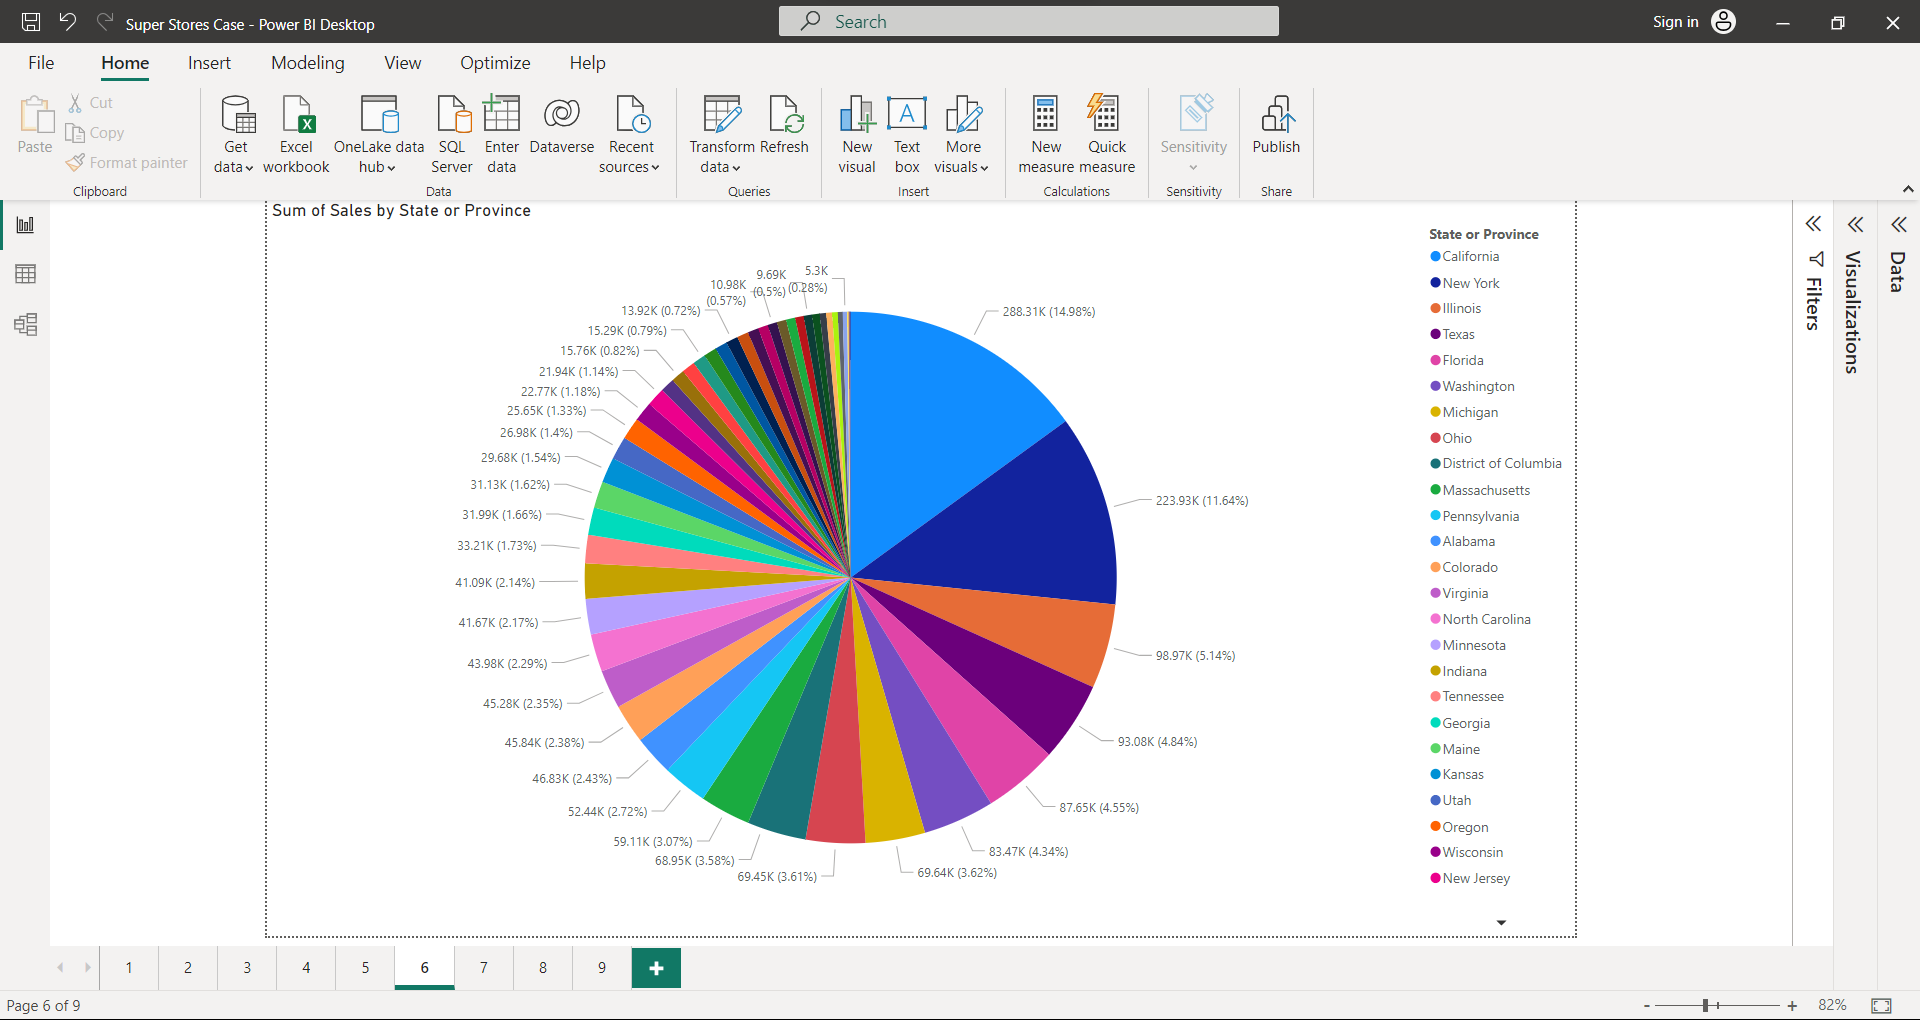

The page's visual inventory and layout, read from the dashboard file:
{"tool":"powerbi","page":{"name":"6","canvas":[1280,720],"ordinal":5},"visuals":[{"type":"pieChart","fields":{"Category":["Table Transaksi.State or Province"],"Y":["Sum(Table Transaksi.Sales)"]},"box":[0,0,1280.6,719.8],"z":1}]}

Visuals, with their boxes on the page's 1280x720 design canvas (x1, y1, x2, y2). These are canvas units, not pixel positions in the 1920x1020 screenshot, which may show the page scaled, cropped or inside an application window:
pieChart - Table Transaksi.State or Province x Sum(Table Transaksi.Sales): box=[0, 0, 1281, 720]
